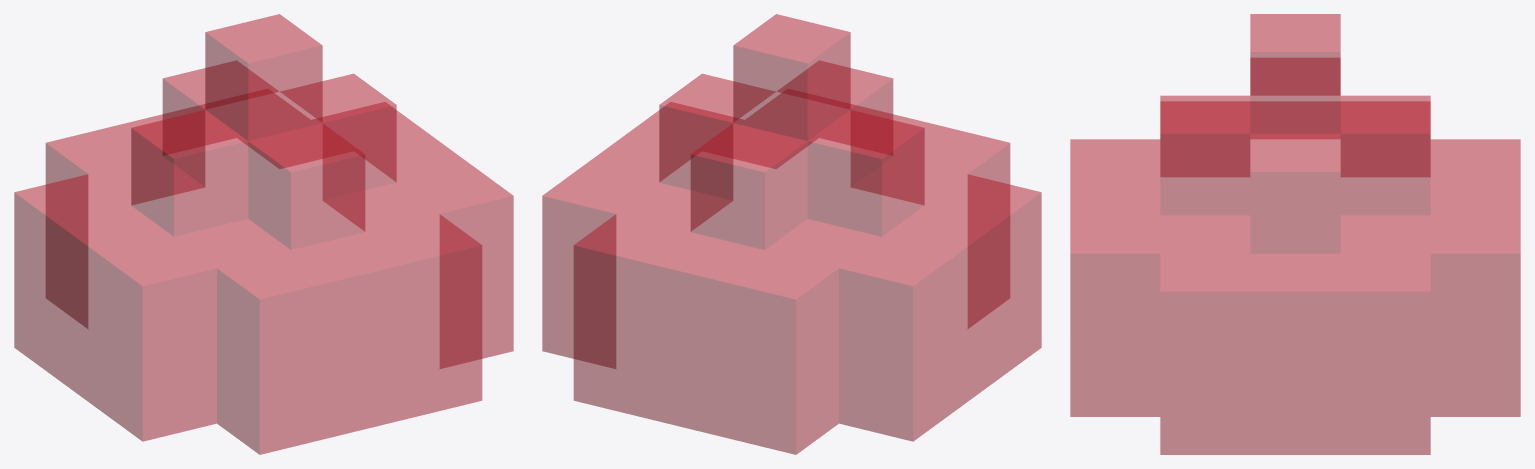
The model's file is garnet.glb.
The picture shows the model from 3 angles, left to right: view 1: azimuth 30°, elevation 25°; view 2: azimuth 150°, elevation 25°; view 3: azimuth 270°, elevation 25°; orthographic projection. The views are drawn at different scales.
Visible parts, largest first — view 1: garnet:compound; view 2: garnet:compound; view 3: garnet:compound.
Boxes of the visible parts, left/top/right/bottom form: garnet:compound: left=14, top=14, right=513, bottom=454; garnet:compound: left=542, top=14, right=1041, bottom=454; garnet:compound: left=1070, top=14, right=1520, bottom=454.
Bounding box in the file's own units: 0.01 × 0.008 × 0.01.
